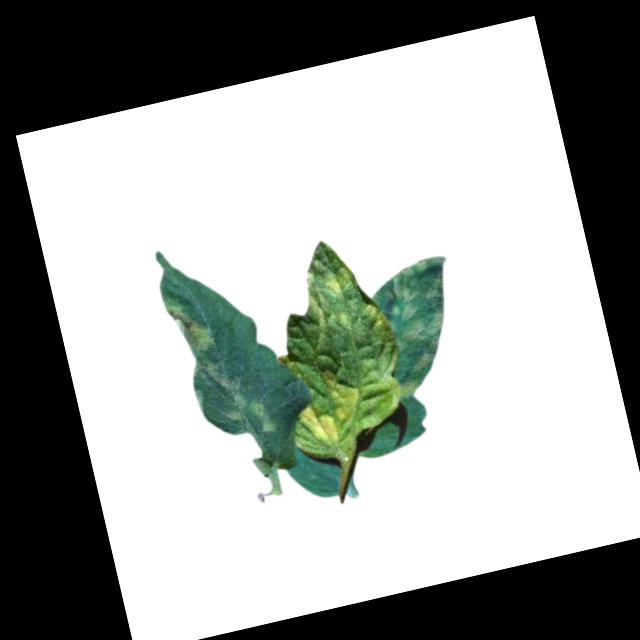Leaf_Mold: (370, 252, 471, 397), (161, 292, 217, 362), (287, 397, 340, 455), (323, 359, 365, 423), (245, 395, 279, 439), (323, 263, 353, 296)
